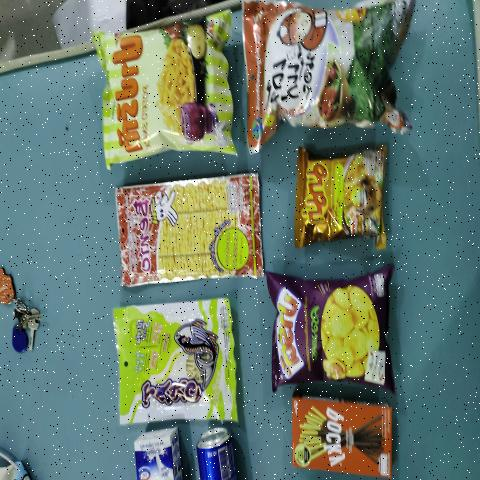bento_red: (120, 175, 255, 284)
mama: (300, 160, 380, 228)
paprika: (102, 19, 224, 166)
party_purple: (278, 280, 386, 378)
pokki: (289, 399, 391, 472)
taokaenoi: (249, 10, 399, 129)
taro_yellow: (120, 305, 225, 420)
